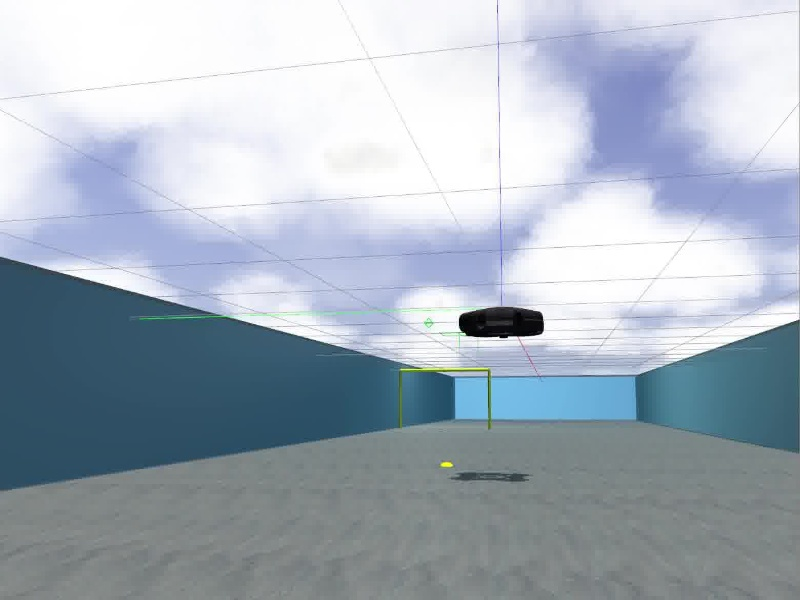gate: (396, 368, 492, 428)
